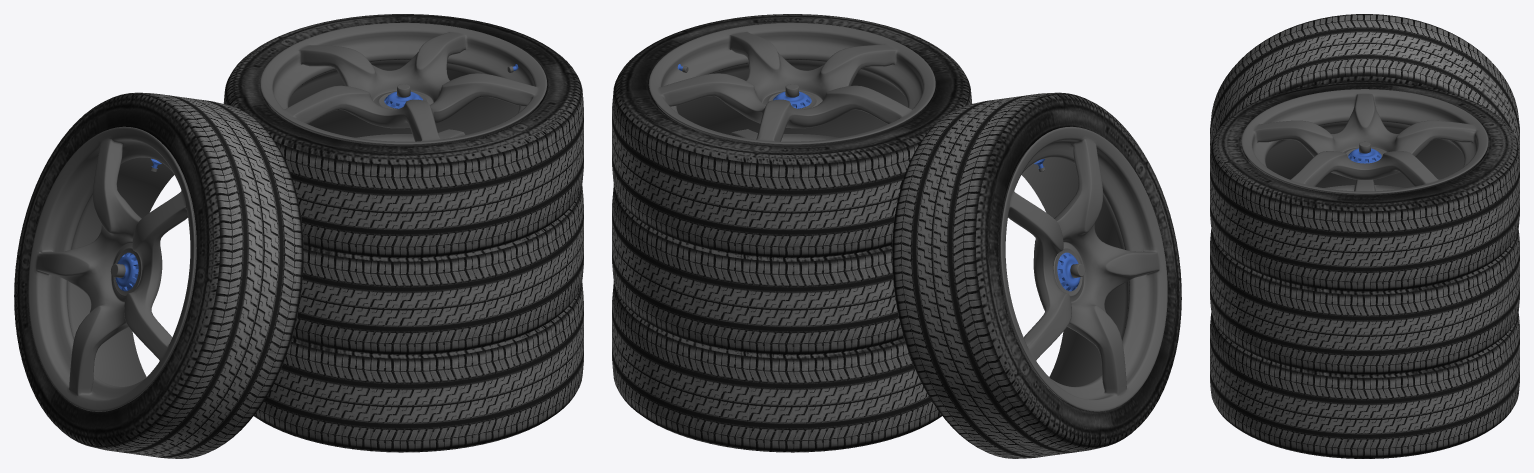
The model's file is CK_WJ_luntaigu_01.FBX.
3 views of the same model, side by side, from view 1: azimuth 30°, elevation 25°; view 2: azimuth 150°, elevation 25°; view 3: azimuth 270°, elevation 25° (orthographic). The views are drawn at different scales.
Parts seen in each view (by area): view 1: CK_WJ_luntaigu_01; view 2: CK_WJ_luntaigu_01; view 3: CK_WJ_luntaigu_01.
Boxes of the visible parts, x1=… form: CK_WJ_luntaigu_01: x1=14, y1=14, x2=583, y2=458; CK_WJ_luntaigu_01: x1=612, y1=14, x2=1181, y2=458; CK_WJ_luntaigu_01: x1=1210, y1=14, x2=1519, y2=458.
Bounding box in the file's own units: 92.13 × 59.28 × 57.92.
